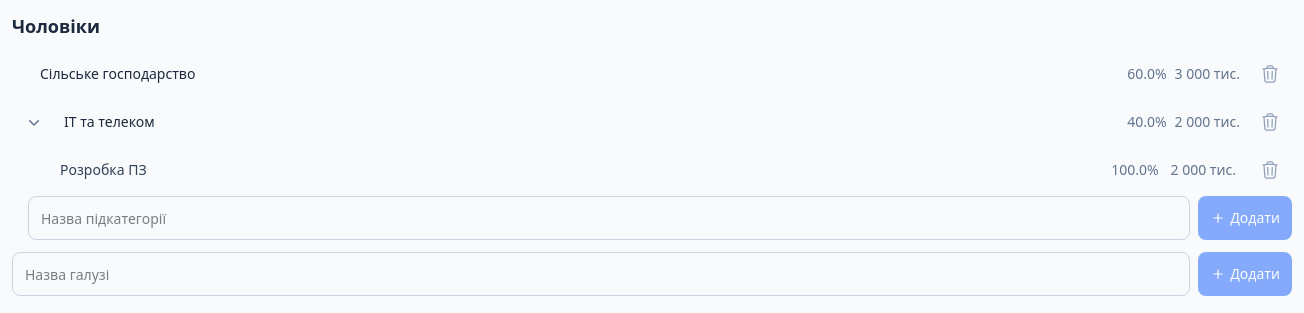
Test: ConfigGenderSection expand/collapse › collapses industry on chevron click and hides subcategories
IT та телеком should be auto-expanded -- find its collapse chevron
Click the button named "Згорнути IT та телеком". click: (34, 122)
box: left=12, top=100, right=56, bottom=144
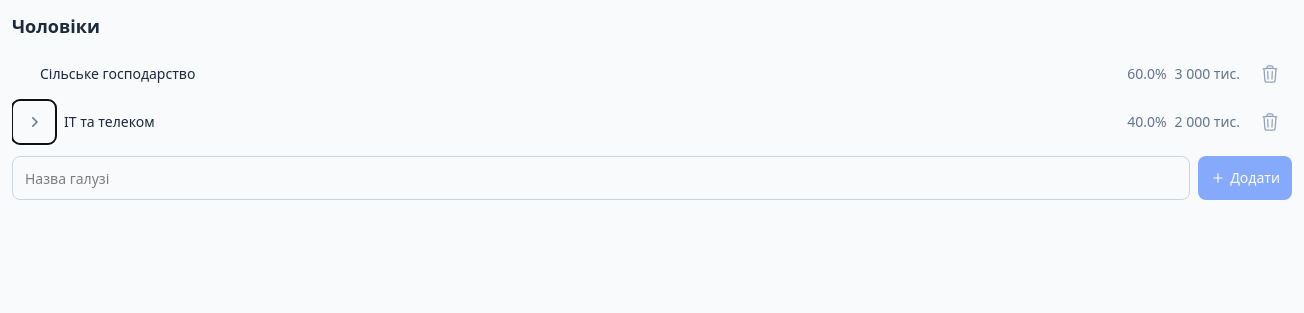
Check: the text "Розробка ПЗ" is gone
